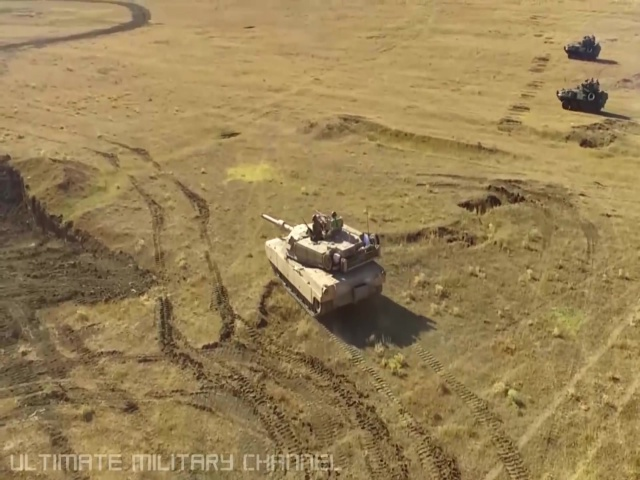vehicle: (264, 210, 388, 317), (559, 78, 611, 115), (565, 35, 602, 62)
